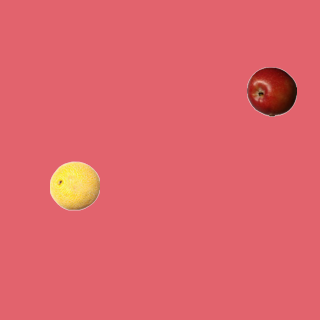Apple Braeburn: (246, 66, 296, 116)
Cantaloupe 1: (49, 160, 99, 210)
